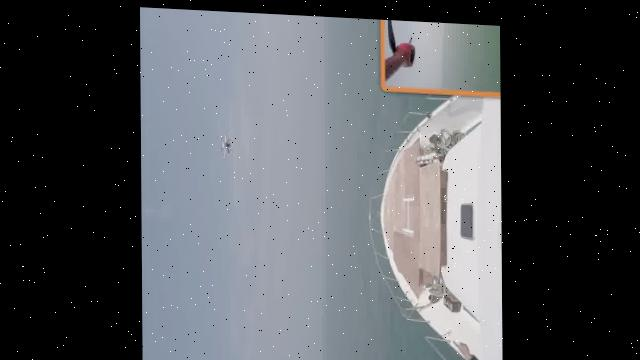drone: (211, 126, 238, 160)
